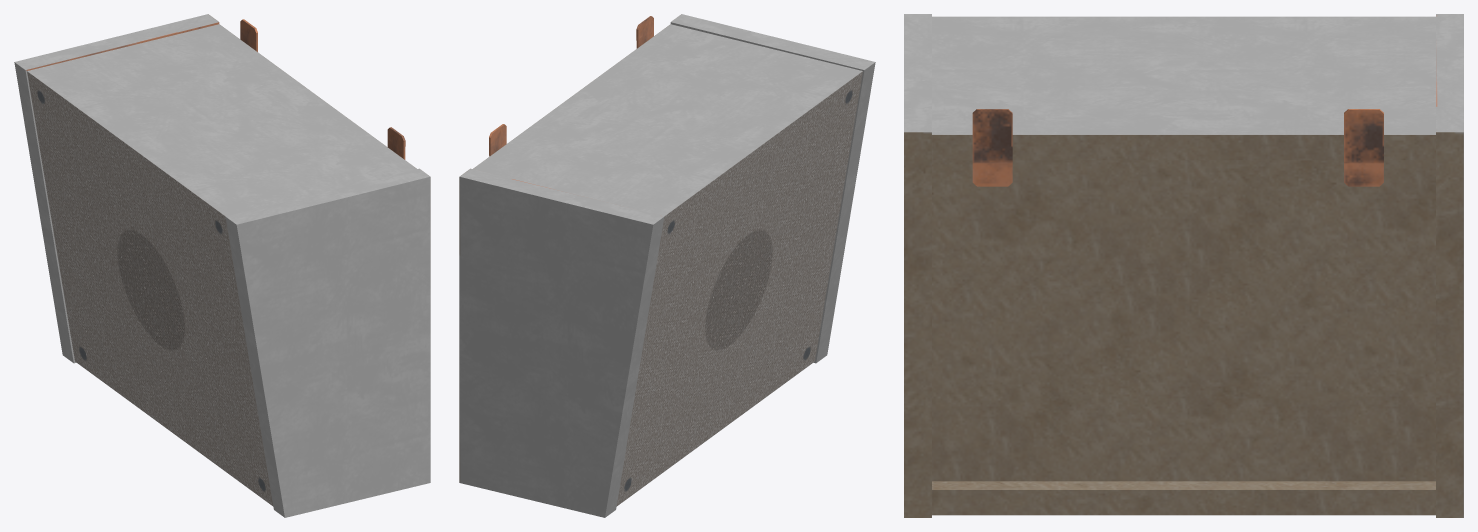
The model's file is SM_Intercom.fbx.
3 views of the same model, side by side, from view 1: azimuth 30°, elevation 25°; view 2: azimuth 150°, elevation 25°; view 3: azimuth 270°, elevation 25° (orthographic). The views are drawn at different scales.
Visible parts, largest first — view 1: SM_Intercom_LOD0; view 2: SM_Intercom_LOD0; view 3: SM_Intercom_LOD0.
Part boxes in pixels (x1,y1,x2,y2): SM_Intercom_LOD0: (14, 14, 430, 517); SM_Intercom_LOD0: (459, 14, 875, 517); SM_Intercom_LOD0: (904, 14, 1463, 517).
Bounding box in the file's own units: 20.38 × 40 × 32.27.
